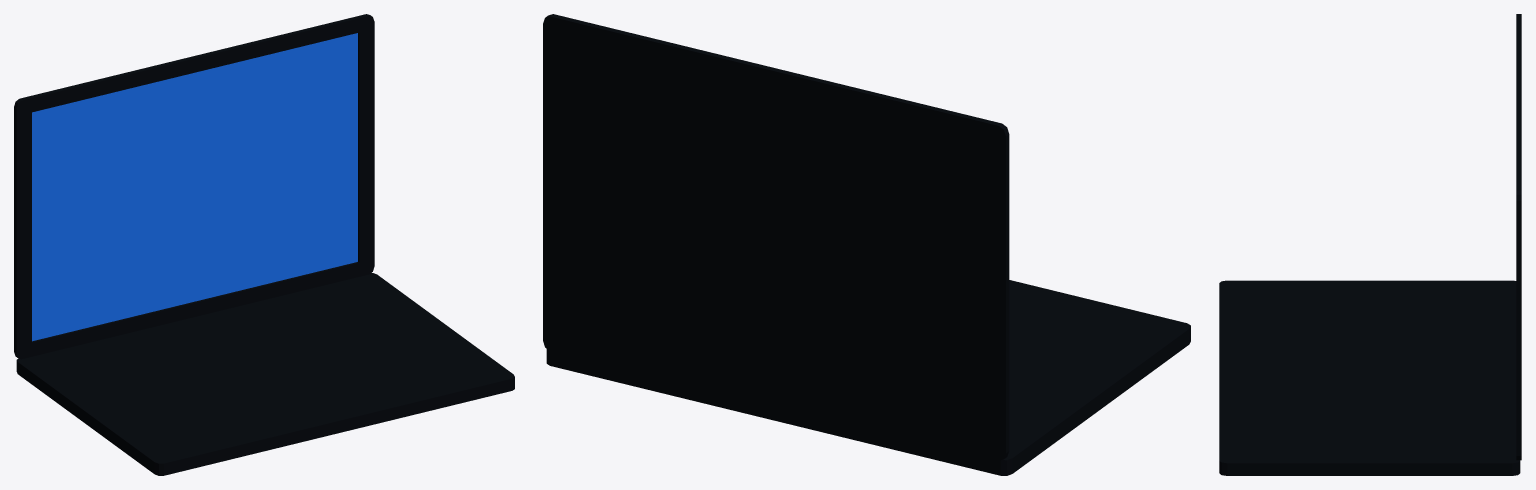
File: Notebook1.glb
3 views of the same model, side by side, from view 1: azimuth 30°, elevation 25°; view 2: azimuth 150°, elevation 25°; view 3: azimuth 270°, elevation 25° (orthographic). The views are drawn at different scales.
Visible parts, largest first — view 1: ScreenNotebok1, KeyboardNotebook1; view 2: ScreenNotebok1, KeyboardNotebook1; view 3: KeyboardNotebook1, ScreenNotebok1.
Boxes of the visible parts, left/top/right/bottom form: ScreenNotebok1: left=14, top=14, right=374, bottom=359; KeyboardNotebook1: left=16, top=273, right=514, bottom=475; ScreenNotebok1: left=543, top=14, right=1009, bottom=460; KeyboardNotebook1: left=546, top=280, right=1190, bottom=475; KeyboardNotebook1: left=1219, top=280, right=1520, bottom=475; ScreenNotebok1: left=1516, top=14, right=1521, bottom=460.
Bounding box in the file's own units: 0.513 × 0.3696 × 0.359.
